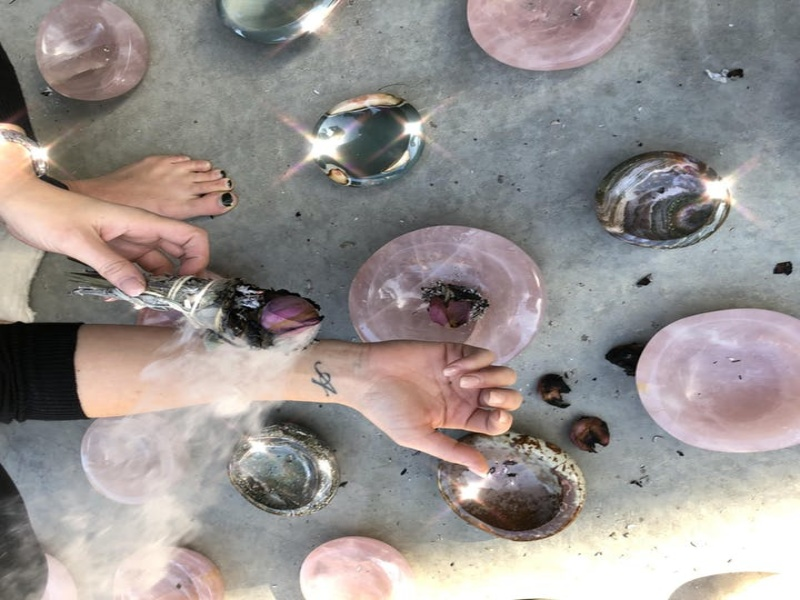smoke: (74, 318, 211, 594)
